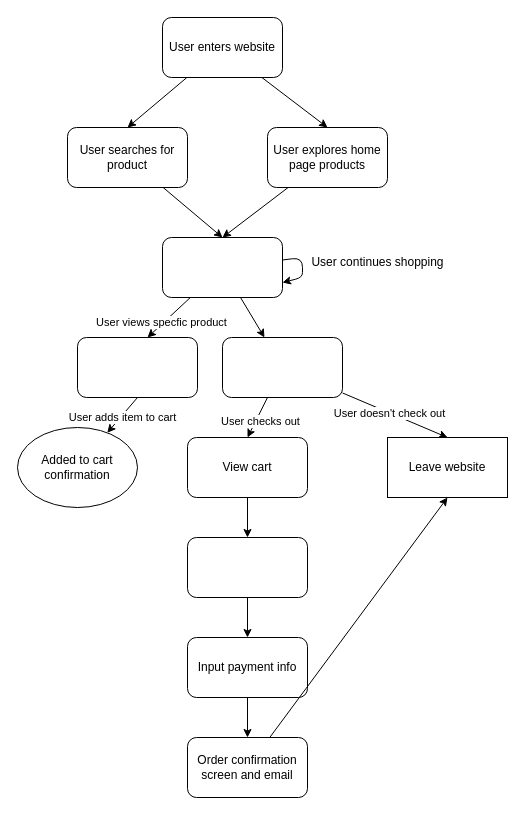
Some shapes in this 525 by 815 pixel diagram are drawn without their labels. Here are the shapes that lost their labels. From the top down, the box of each, then its label:
(162, 236, 282, 298): User views products
(76, 336, 198, 398): Product webpage opens
(222, 336, 342, 398): User finishes shopping
(186, 536, 308, 598): View payment
